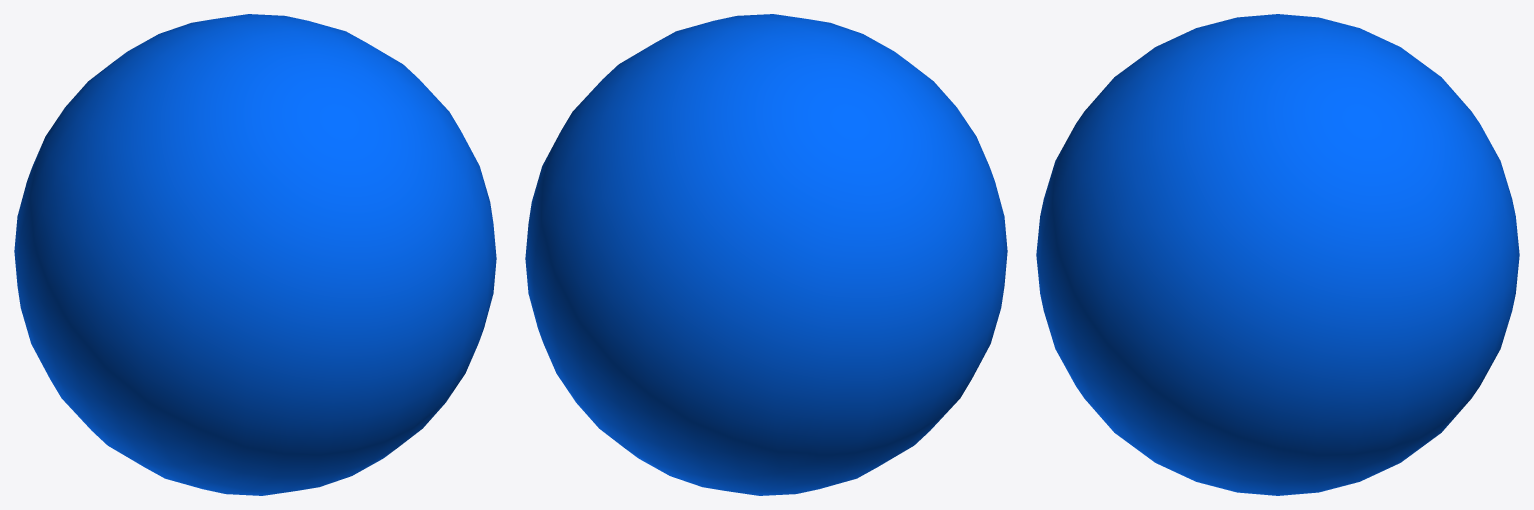
The model's file is Bubble.glb.
The picture shows the model from 3 angles, left to right: view 1: azimuth 30°, elevation 25°; view 2: azimuth 150°, elevation 25°; view 3: azimuth 270°, elevation 25°; orthographic projection.
Visible parts, largest first — view 1: Bubble; view 2: Bubble; view 3: Bubble.
Boxes of the visible parts, x1,y1,x2,y2 form: Bubble: [14, 14, 496, 495]; Bubble: [525, 14, 1007, 495]; Bubble: [1036, 14, 1519, 495].
Size of the model in its own units: 2 by 2 by 2.
